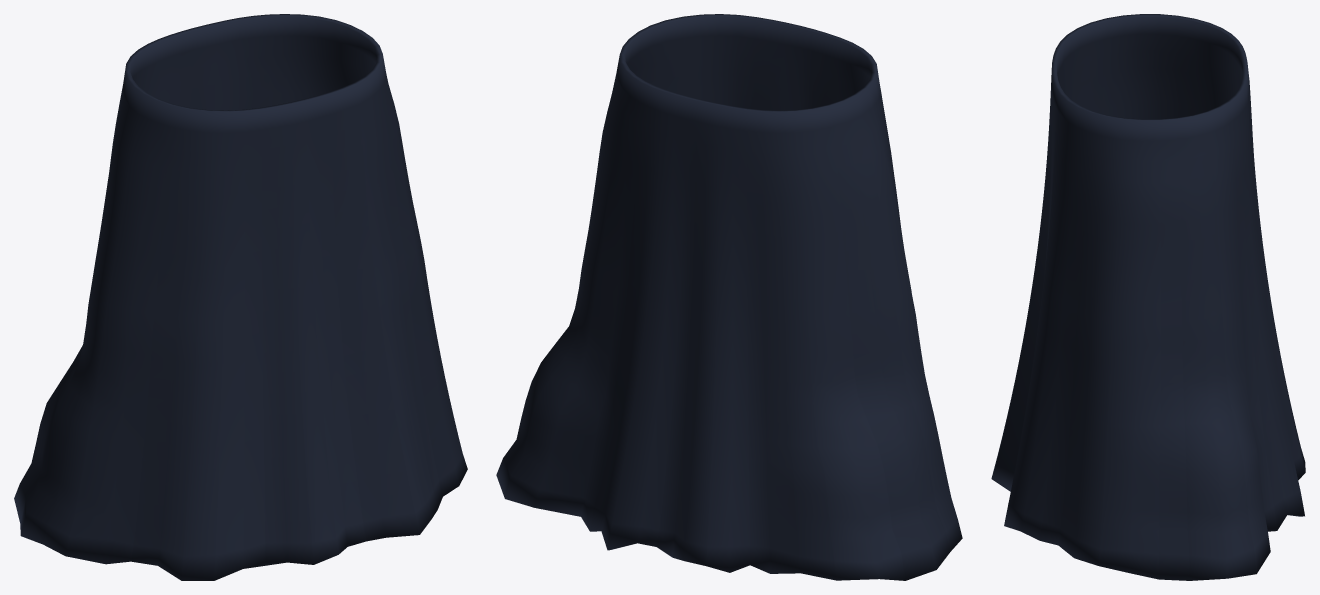
Rendered from kupam_poblador_2.glb.
3 renders of one model, left to right at view 1: azimuth 30°, elevation 25°; view 2: azimuth 150°, elevation 25°; view 3: azimuth 270°, elevation 25°, orthographic. The views are drawn at different scales.
Visible parts, largest first — view 1: kupam_poblador_2; view 2: kupam_poblador_2; view 3: kupam_poblador_2.
Part boxes in pixels (x1=…): kupam_poblador_2: x1=14, y1=14, x2=467, y2=580; kupam_poblador_2: x1=496, y1=14, x2=962, y2=580; kupam_poblador_2: x1=991, y1=14, x2=1305, y2=580.
Bounding box in the file's own units: 0.7382 × 0.7409 × 0.4997.
